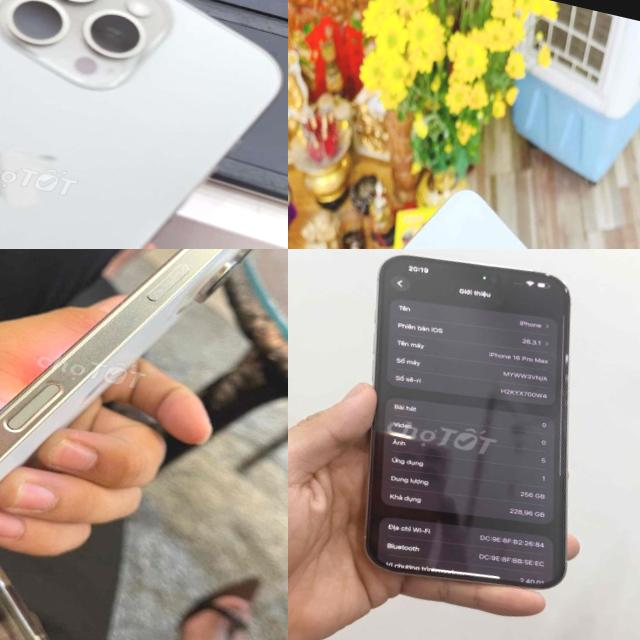gen_12_13: (311, 168, 640, 249)
gen_15: (0, 249, 288, 640)
gen_16: (309, 249, 632, 613), (0, 0, 281, 249)
